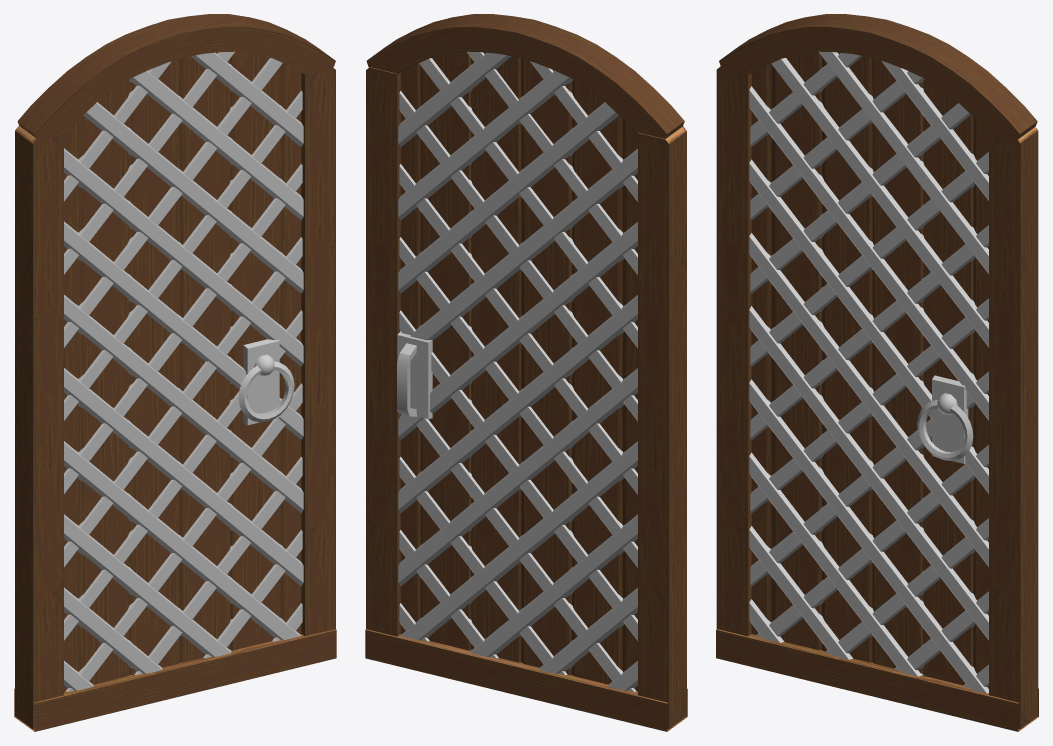
File: Door_4_Round.gltf
3 views of the same model, side by side, from view 1: azimuth 30°, elevation 25°; view 2: azimuth 150°, elevation 25°; view 3: azimuth 330°, elevation 25° (orthographic).
Parts seen in each view (by area): view 1: Door_4_Round; view 2: Door_4_Round; view 3: Door_4_Round.
Boxes of the visible parts, left/top/right/bottom form: Door_4_Round: left=14, top=14, right=336, bottom=731; Door_4_Round: left=365, top=14, right=687, bottom=731; Door_4_Round: left=716, top=14, right=1038, bottom=731.
Size of the model in its own units: 1.11 by 2.32 by 0.2093.
